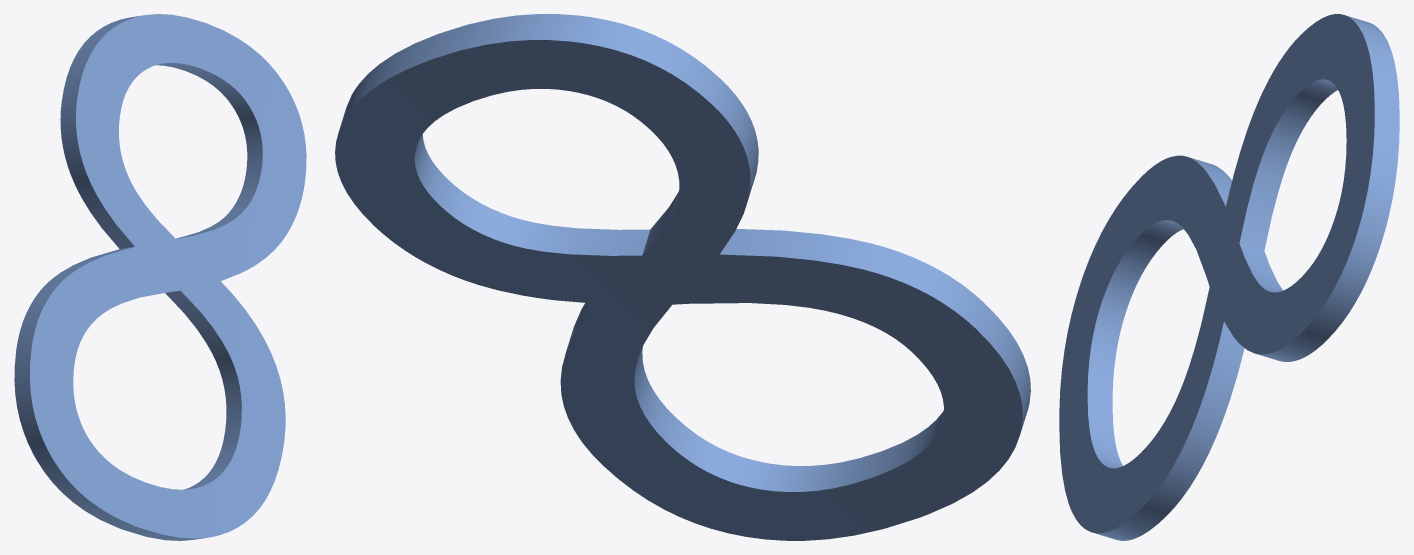
File: New_Number_8.gltf
The picture shows the model from 3 angles, left to right: view 1: azimuth 30°, elevation 25°; view 2: azimuth 150°, elevation 25°; view 3: azimuth 270°, elevation 25°; orthographic projection. The views are drawn at different scales.
Parts seen in each view (by area): view 1: Part 539; view 2: Part 539; view 3: Part 539.
Boxes of the visible parts, box(x1,y1,x2,y2) form: Part 539: box(14, 14, 306, 540); Part 539: box(335, 14, 1030, 540); Part 539: box(1059, 14, 1399, 540).
Size of the model in its own units: 0.00457 by 0.00507 by 0.00305.
